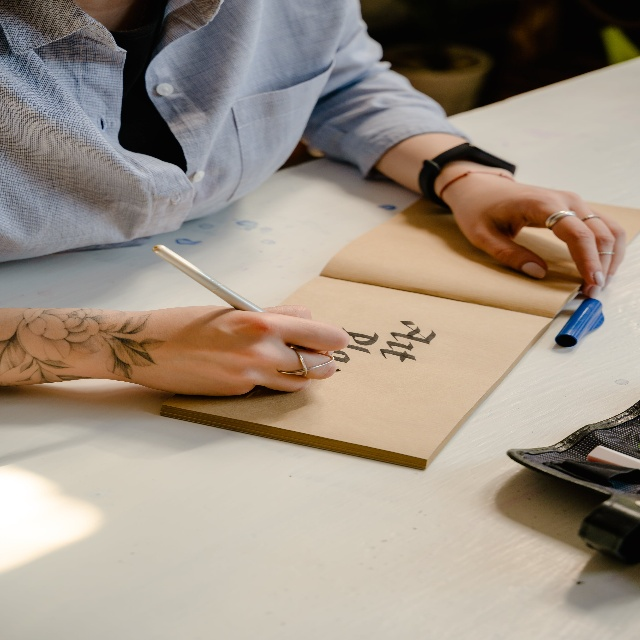Sin_guantes: (446, 168, 628, 283), (151, 300, 348, 386)
